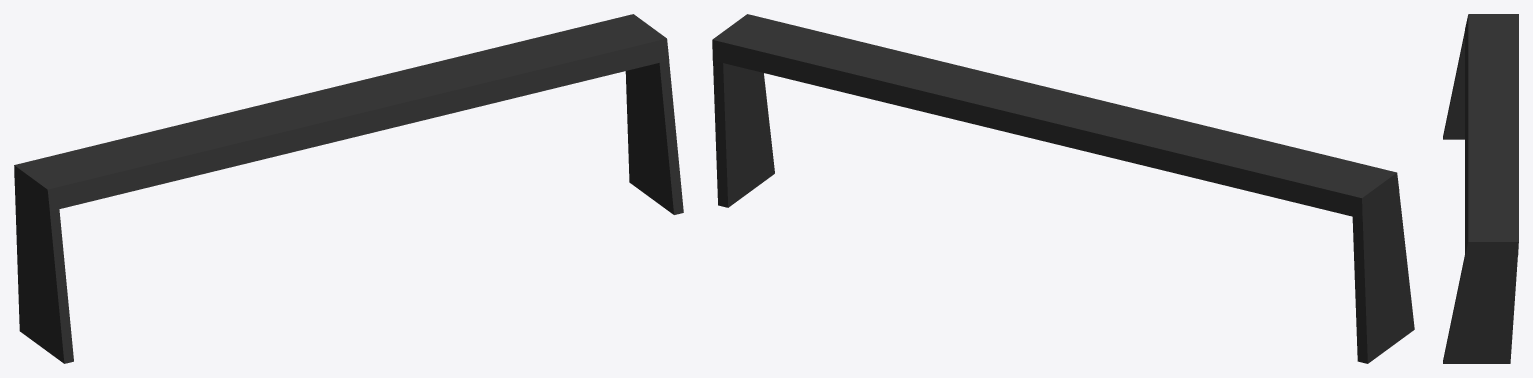
File: dc_metro_roof_o14.obj
The picture shows the model from 3 angles, left to right: view 1: azimuth 30°, elevation 25°; view 2: azimuth 150°, elevation 25°; view 3: azimuth 270°, elevation 25°; orthographic projection. The views are drawn at different scales.
Visible parts, largest first — view 1: part14; view 2: part14; view 3: part14.
Part boxes in pixels (x1,y1,x2,y2): part14: (14, 14, 683, 363); part14: (712, 14, 1414, 363); part14: (1443, 14, 1518, 363).
Bounding box in the file's own units: 4 × 1 × 0.5625.
1 material, 1 textured.
